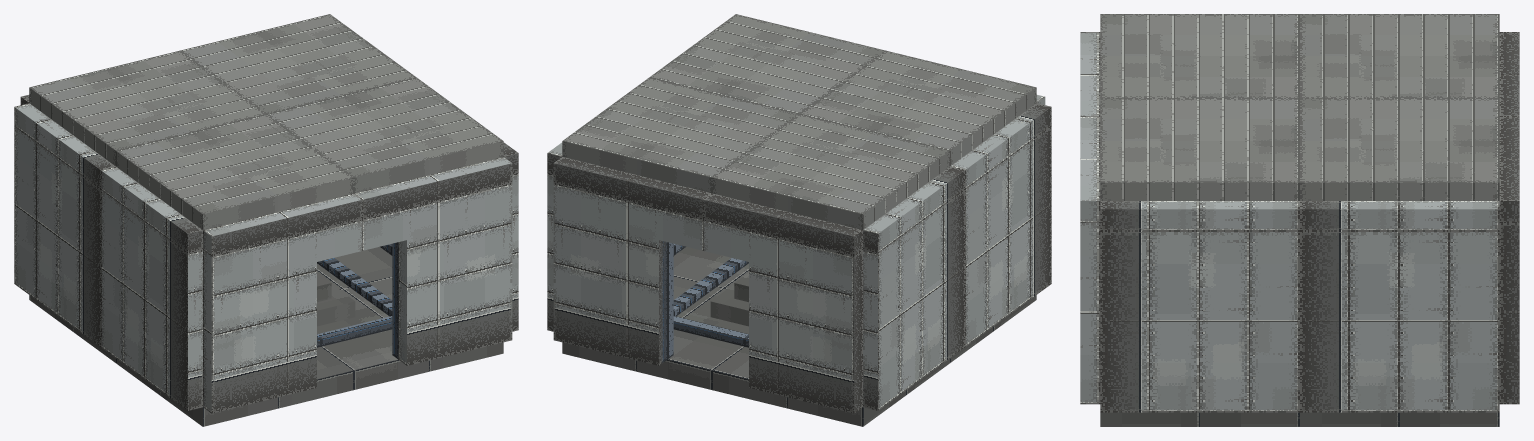
The model's file is shell_treasure_vault.glb.
3 views of the same model, side by side, from view 1: azimuth 30°, elevation 25°; view 2: azimuth 150°, elevation 25°; view 3: azimuth 270°, elevation 25° (orthographic). The views are drawn at different scales.
Parts seen in each view (by area): view 1: shell_treasure_vault; view 2: shell_treasure_vault; view 3: shell_treasure_vault.
Part boxes in pixels (x1,y1,x2,y2): shell_treasure_vault: [14, 14, 518, 426]; shell_treasure_vault: [547, 14, 1051, 426]; shell_treasure_vault: [1080, 14, 1519, 426].
Size of what is drawn, in the model's own units: 8.8 by 5.4 by 8.8.
Materials: 30 (30 with a texture image).
